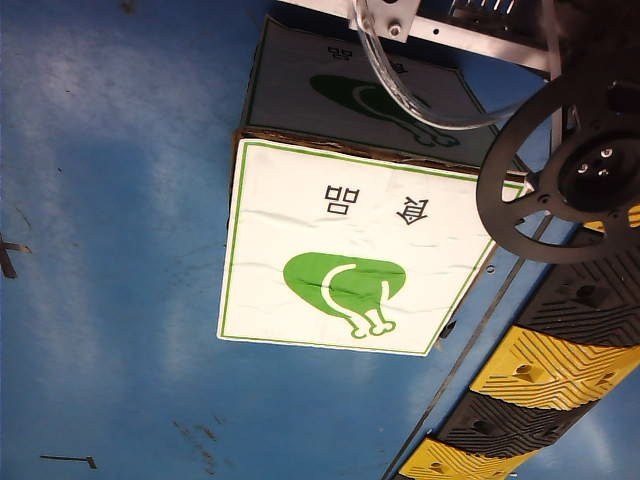Cube_food: (274, 179, 440, 346)
